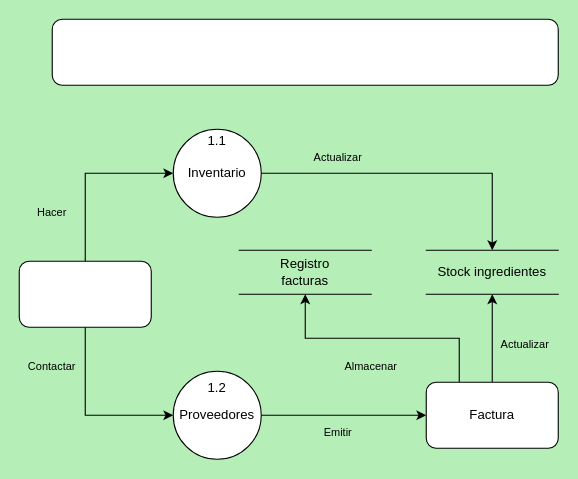
Image size: 578x479. Some labels were removed from this diagram. Each missing label, with the centre of its shape:
Cocineros: the point at 84,293
Diagrama 1: Inventario y proveedores: the point at 304,51
